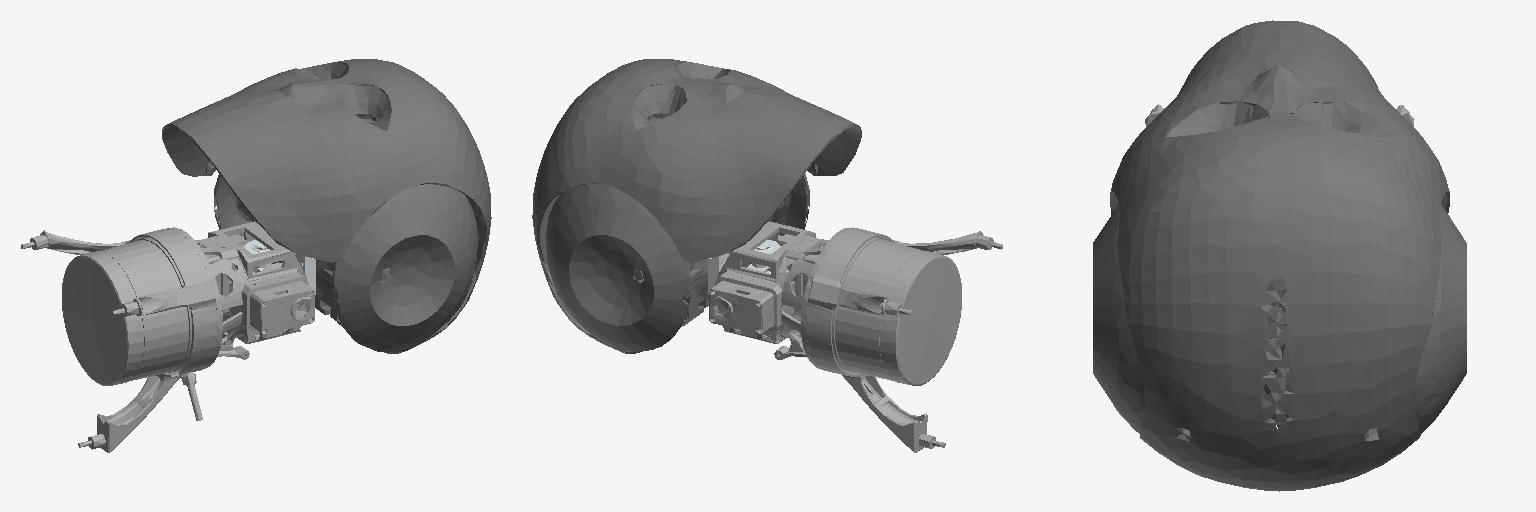
robot.urdf — Head:
<robot name="Head">
  <joint name="HeadActC" type="revolute">
    <origin xyz="0.15925 0.0 0.0" rpy="-1.5708 0.0 0.0"/>
    <axis xyz="1.0 0.0 0.0"/>
    <parent link="HeadBase_Link"/>
    <child link="HeadActC_Link"/>
    <limit effort="400.0" lower="-3.1415926" upper="3.1415926" velocity="3.1415926"/>
  </joint>
  <link name="HeadActC_Link">
    <inertial>
      <origin xyz="-0.017674 7.2495e-17 5.4996e-17" rpy="0.0 0.0 0.0"/>
      <mass value="0.0046686"/>
      <inertia ixx="1e-05" ixy="4.873599999999988e-23" ixz="5.031600000000013e-23" iyy="1.003789e-05" iyz="-4.798999999999274e-09" izz="1.004626e-05"/>
    </inertial>
    <visual name="HeadActC_Visual">
      <origin xyz="0.0 0.0 0.0" rpy="0.0 0.0 0.0"/>
      <geometry>
        <mesh filename="../meshes/lfs-stl/Head_ActC.stl"/>
      </geometry>
      <material name="">
        <color rgba="0.89804 0.91765 0.92941 1.0"/>
      </material>
    </visual>
    <collision name="HeadActC_Collision">
      <origin xyz="0.0 0.0 0.0" rpy="0.0 0.0 0.0"/>
      <geometry>
        <mesh filename="../meshes/lfs-stl/Head_ActC_convexhull.stl" scale="1.0 1.0 1.0"/>
      </geometry>
    </collision>
  </link>
  <joint name="HeadActL" type="revolute">
    <origin xyz="0.15925 0.0 0.0" rpy="3.1416 0.0 1.5708"/>
    <axis xyz="1.0 0.0 0.0"/>
    <parent link="HeadBase_Link"/>
    <child link="HeadActL_Link"/>
    <limit effort="400.0" lower="-3.1415926" upper="3.1415926" velocity="3.1415926"/>
  </joint>
  <link name="HeadActL_Link">
    <inertial>
      <origin xyz="-0.018628 0.0 1.3747e-17" rpy="0.0 0.0 0.0"/>
      <mass value="0.049162"/>
      <inertia ixx="1.50716e-05" ixy="3.3203e-22" ixz="-3.6271000000000003e-22" iyy="1.0000000000000003e-05" iyz="-8.470329472543003e-22" izz="1.0000000000000003e-05"/>
    </inertial>
    <visual name="HeadActL_Visual">
      <origin xyz="0.0 0.0 0.0" rpy="0.0 0.0 0.0"/>
      <geometry>
        <mesh filename="../meshes/lfs-stl/Head_ActL.stl"/>
      </geometry>
      <material name="">
        <color rgba="0.69804 0.69804 0.69804 1.0"/>
      </material>
    </visual>
    <collision name="HeadActL_Collision">
      <origin xyz="0.0 0.0 0.0" rpy="0.0 0.0 0.0"/>
      <geometry>
        <mesh filename="../meshes/lfs-stl/Head_ActL_convexhull.stl" scale="1.0 1.0 1.0"/>
      </geometry>
    </collision>
  </link>
  <joint name="HeadActR" type="revolute">
    <origin xyz="0.15925 0.0 0.0" rpy="0.0 0.0 -1.5708"/>
    <axis xyz="1.0 0.0 0.0"/>
    <parent link="HeadBase_Link"/>
    <child link="HeadActR_Link"/>
    <limit effort="400.0" lower="-3.1415926" upper="3.1415926" velocity="3.1415926"/>
  </joint>
  <link name="HeadActR_Link">
    <inertial>
      <origin xyz="-0.018628 -1.3878e-17 9.5749e-18" rpy="0.0 0.0 0.0"/>
      <mass value="0.049162"/>
      <inertia ixx="1.5071600000000002e-05" ixy="2.9254000000000035e-22" ixz="-3.611699999999999e-22" iyy="1.0000000000000008e-05" iyz="-2.541098841762901e-21" izz="1e-05"/>
    </inertial>
    <visual name="HeadActR_Visual">
      <origin xyz="0.0 0.0 0.0" rpy="0.0 0.0 0.0"/>
      <geometry>
        <mesh filename="../meshes/lfs-stl/Head_ActR.stl"/>
      </geometry>
      <material name="">
        <color rgba="0.69804 0.69804 0.69804 1.0"/>
      </material>
    </visual>
    <collision name="HeadActR_Collision">
      <origin xyz="0.0 0.0 0.0" rpy="0.0 0.0 0.0"/>
      <geometry>
        <mesh filename="../meshes/lfs-stl/Head_ActR_convexhull.stl" scale="1.0 1.0 1.0"/>
      </geometry>
    </collision>
  </link>
  <link name="HeadBase_Link">
    <inertial>
      <origin xyz="0.074228 -3.6471e-05 -0.00062034" rpy="0.0 0.0 0.0"/>
      <mass value="1.339"/>
      <inertia ixx="0.0017089" ixy="4.2668e-08" ixz="5.2598e-08" iyy="0.0014476" iyz="7.0143e-07" izz="0.0013396"/>
    </inertial>
    <visual name="HeadBase_Visual">
      <origin xyz="0.0 0.0 0.0" rpy="0.0 0.0 0.0"/>
      <geometry>
        <mesh filename="../meshes/lfs-stl/Head_Base.stl"/>
      </geometry>
      <material name="">
        <color rgba="0.69804 0.69804 0.69804 1.0"/>
      </material>
    </visual>
    <collision name="HeadBase_Collision">
      <origin xyz="0.0 0.0 0.0" rpy="0.0 0.0 0.0"/>
      <geometry>
        <mesh filename="../meshes/lfs-stl/Head_Base_convexhull.stl" scale="1.0 1.0 1.0"/>
      </geometry>
    </collision>
  </link>
  <joint name="HeadPitch" type="revolute">
    <origin xyz="0.15925 0.0 0.0" rpy="0.0 0.0 -1.5708"/>
    <axis xyz="1.0 0.0 0.0"/>
    <parent link="HeadBase_Link"/>
    <child link="HeadPitch_Link"/>
    <limit effort="400.0" lower="-0.3" upper="0.35" velocity="3.1415926"/>
  </joint>
  <link name="HeadPitch_Link">
    <inertial>
      <origin xyz="3.73800046473431e-08 -4.45791975556276e-09 0.00296950883117566" rpy="0.0 0.0 0.0"/>
      <mass value="0.0135306815484183"/>
      <inertia ixx="1.0900469792997046e-05" ixy="-1.983276674419689e-12" ixz="2.9229038977620623e-12" iyy="1.1777940400612256e-05" iyz="-1.006944634337718e-13" izz="1.0000000000009494e-05"/>
    </inertial>
    <visual name="HeadPitch_Visual">
      <origin xyz="0.0 0.0 0.0" rpy="0.0 0.0 0.0"/>
      <geometry>
        <mesh filename="../meshes/lfs-stl/HeadPitch.stl"/>
      </geometry>
      <material name="">
        <color rgba="0.898039215686275 0.917647058823529 0.929411764705882 1.0"/>
      </material>
    </visual>
    <collision name="HeadPitch_Collision">
      <origin xyz="0.0 0.0 0.0" rpy="0.0 0.0 0.0"/>
      <geometry>
        <mesh filename="../meshes/lfs-stl/HeadPitch_convexhull.stl" scale="1.0 1.0 1.0"/>
      </geometry>
    </collision>
  </link>
  <joint name="HeadRoll" type="revolute">
    <origin xyz="0.0 0.0 0.0" rpy="-1.5708 -1.5708 0.0"/>
    <axis xyz="-1.0 0.0 0.0"/>
    <parent link="HeadPitch_Link"/>
    <child link="HeadRoll_Link"/>
    <limit effort="400.0" lower="-0.45" upper="0.007853981633974483" velocity="3.1415926"/>
  </joint>
  <link name="HeadRoll_Link">
    <inertial>
      <origin xyz="-0.00844253878850604 -4.18737776903302e-08 0.00884603238325907" rpy="0.0 0.0 0.0"/>
      <mass value="0.109788715391496"/>
      <inertia ixx="1.83994177455821e-05" ixy="5.13405597754959e-11" ixz="-1.07875589146075e-08" iyy="1.359548687449e-05" iyz="-9.3011670884998e-10" izz="1.39946184243742e-05"/>
    </inertial>
    <visual name="HeadRoll_Visual">
      <origin xyz="0.0 0.0 0.0" rpy="0.0 0.0 0.0"/>
      <geometry>
        <mesh filename="../meshes/lfs-stl/HeadRoll.stl"/>
      </geometry>
      <material name="">
        <color rgba="0.898039215686275 0.917647058823529 0.929411764705882 1.0"/>
      </material>
    </visual>
    <collision name="HeadRoll_Collision">
      <origin xyz="0.0 0.0 0.0" rpy="0.0 0.0 0.0"/>
      <geometry>
        <mesh filename="../meshes/lfs-stl/HeadRoll_convexhull.stl" scale="1.0 1.0 1.0"/>
      </geometry>
    </collision>
  </link>
  <joint name="HeadYaw" type="revolute">
    <origin xyz="0.0 0.0 0.0" rpy="1.5708 -1.5708 0.0"/>
    <axis xyz="1.0 0.0 0.0"/>
    <parent link="HeadRoll_Link"/>
    <child link="HeadYaw_Link"/>
    <limit effort="400.0" lower="-2.1" upper="2.1" velocity="3.1415926"/>
  </joint>
  <link name="HeadYaw_Link">
    <inertial>
      <origin xyz="0.0865202750448954 -0.0440420348532486 -0.00282280741895916" rpy="0.0 0.0 0.0"/>
      <mass value="1.46451930762968"/>
      <inertia ixx="0.00400957562211491" ixy="-0.000773636855316844" ixz="-8.24762860917018e-06" iyy="0.00399135489001388" iyz="-9.04346097850664e-06" izz="0.00411109150468807"/>
    </inertial>
    <visual name="HeadYaw_Visual">
      <origin xyz="0.0 0.0 0.0" rpy="0.0 0.0 0.0"/>
      <geometry>
        <mesh filename="../meshes/lfs-stl/HeadYaw.stl"/>
      </geometry>
      <material name="">
        <color rgba="0.498039215686275 0.498039215686275 0.498039215686275 1.0"/>
      </material>
    </visual>
    <collision name="HeadYaw_Collision">
      <origin xyz="0.0 0.0 0.0" rpy="0.0 0.0 0.0"/>
      <geometry>
        <mesh filename="../meshes/lfs-stl/HeadYaw_convexhull.stl" scale="1.0 1.0 1.0"/>
      </geometry>
    </collision>
  </link>
  <transmission name="head_joints">
    <type>MultiJointLinearTransmission</type>
    <joint name="HeadActC">
      <depends_on joint="HeadYaw" multiplier="1.0" offset="0"/>
    </joint>
    <joint name="HeadActL">
      <depends_on joint="HeadRoll" multiplier="1.0" offset="0"/>
      <depends_on joint="HeadPitch" multiplier="-1.0" offset="0"/>
    </joint>
    <joint name="HeadActR">
      <depends_on joint="HeadRoll" multiplier="-1.0" offset="0"/>
      <depends_on joint="HeadPitch" multiplier="-1.0" offset="0"/>
    </joint>
  </transmission>
</robot>

--- Render facts (derived) ---
3 views of the same robot in one strip: view 1: azimuth 30°, elevation 25°; view 2: azimuth 150°, elevation 25°; view 3: azimuth 270°, elevation 25° (orthographic).
Robot: Head — 7 links, 6 joints (6 revolute); root link HeadBase_Link; default pose: every joint at zero.
Visible links, largest first — view 1: HeadYaw_Link, HeadBase_Link, HeadRoll_Link; view 2: HeadYaw_Link, HeadBase_Link, HeadRoll_Link; view 3: HeadYaw_Link.
Boxes of the visible links, box(x1,y1,x2,y2) form: HeadYaw_Link: box(162, 59, 491, 353); HeadBase_Link: box(21, 221, 314, 452); HeadRoll_Link: box(243, 240, 315, 294); HeadYaw_Link: box(532, 59, 861, 353); HeadBase_Link: box(709, 221, 1002, 452); HeadRoll_Link: box(708, 240, 780, 294); HeadYaw_Link: box(1093, 20, 1466, 491).
Size in the robot's own frame: 0.3438 by 0.2101 by 0.2654 metres.
Meshes: 7 distinct files referenced, 6 mesh visuals loaded (6 binary STL); not drawn: 1 (reference not matched to a file when rendering).